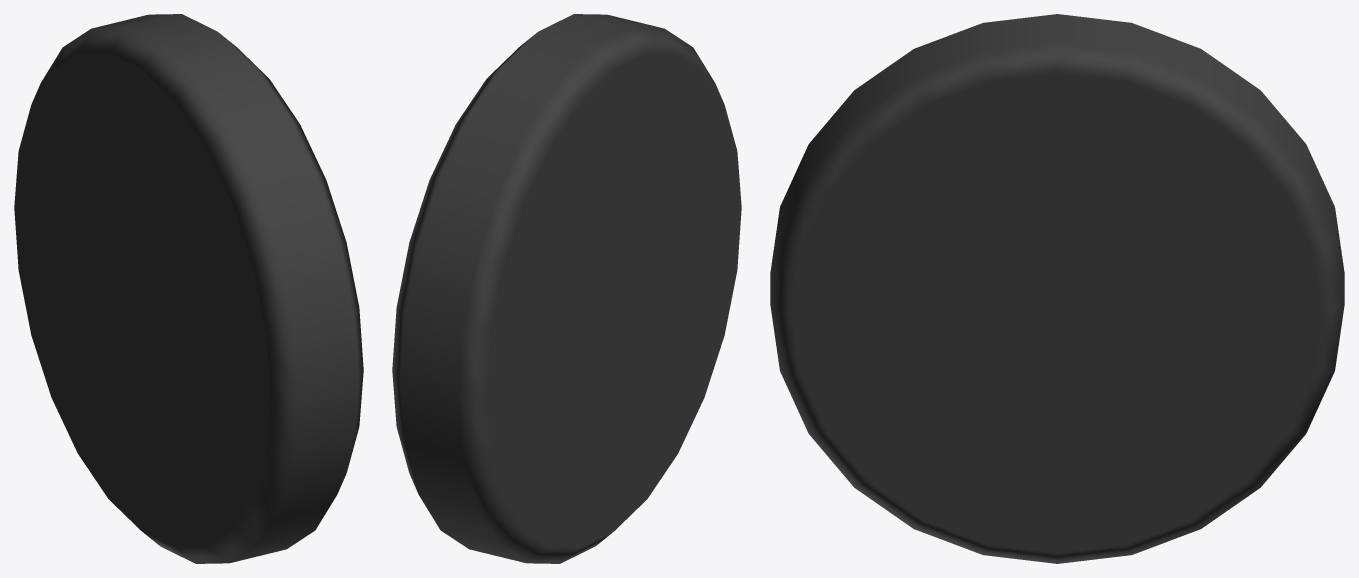
File: Pipe_Disk.fbx
The picture shows the model from 3 angles, left to right: view 1: azimuth 30°, elevation 25°; view 2: azimuth 150°, elevation 25°; view 3: azimuth 270°, elevation 25°; orthographic projection. The views are drawn at different scales.
Parts seen in each view (by area): view 1: Pipe_Disk; view 2: Pipe_Disk; view 3: Pipe_Disk.
Part boxes in pixels (bbox=[...]): Pipe_Disk: bbox=[14, 14, 363, 563]; Pipe_Disk: bbox=[392, 14, 741, 563]; Pipe_Disk: bbox=[770, 14, 1344, 563].
Size of the model in its own units: 10.11 by 50.8 by 50.8.
